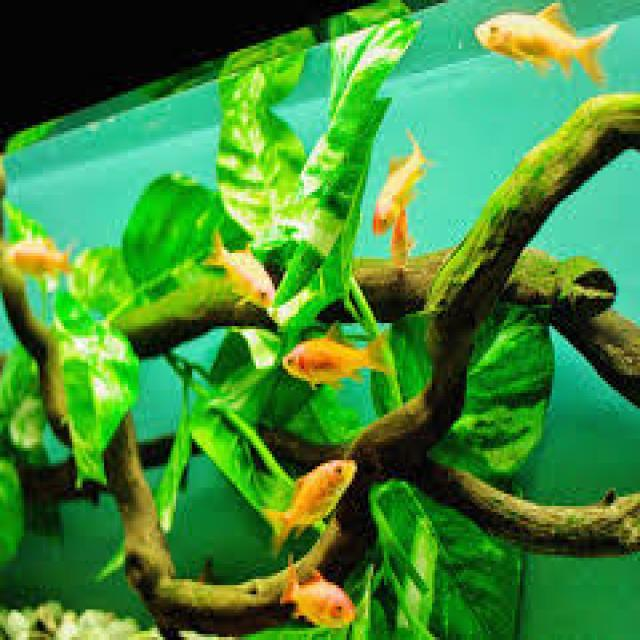goldfish: (474, 0, 614, 85)
